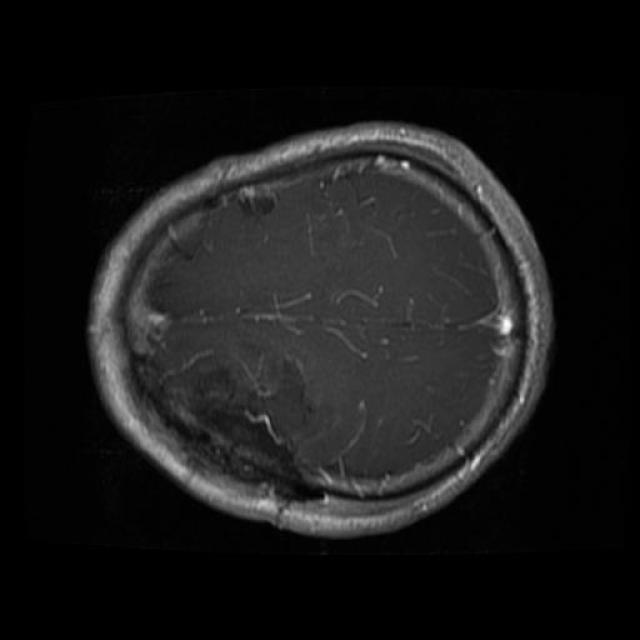Glioma: (138, 346, 322, 500)
